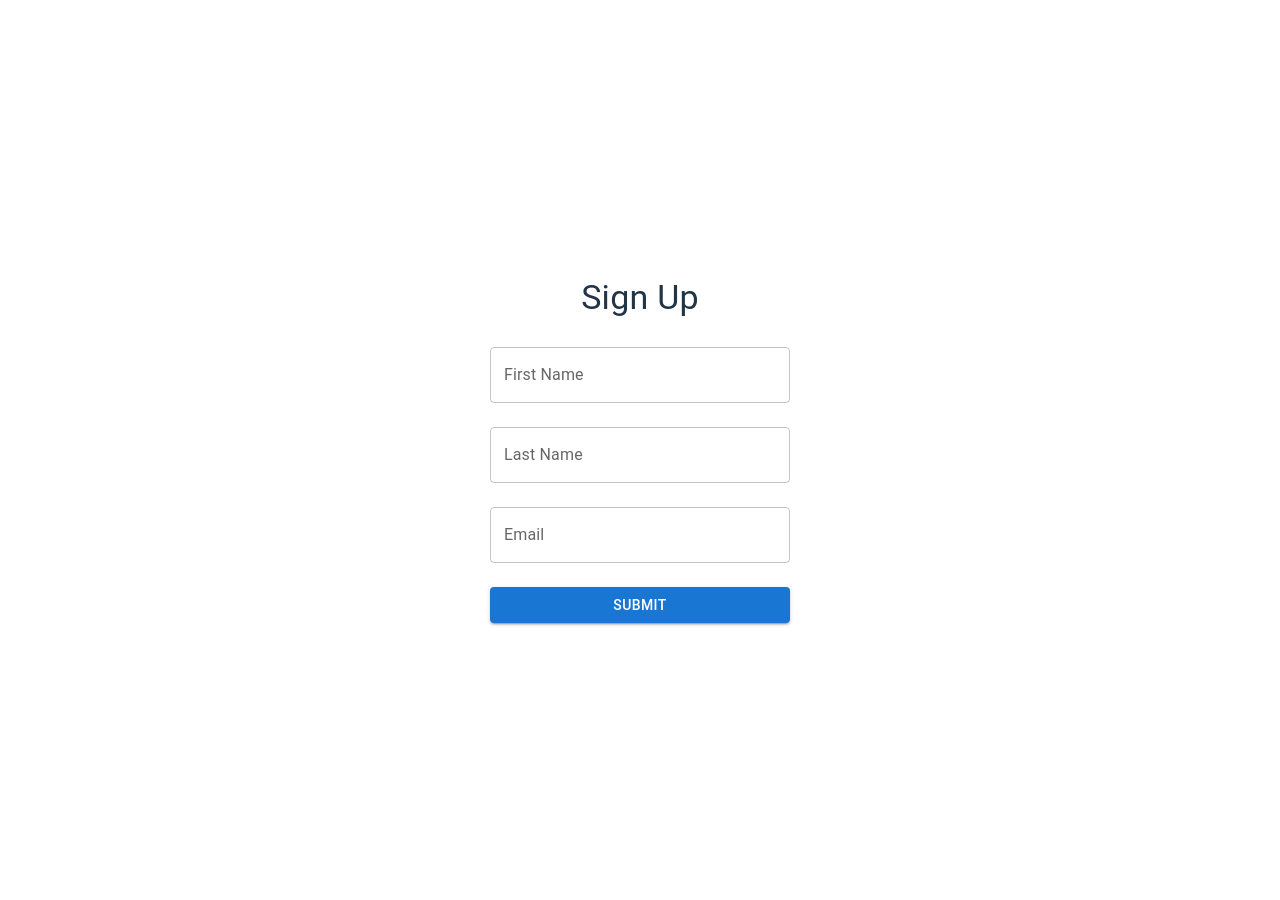
Test: FormConfirm Component Tests › displays the confirmation dialog when the submit button is clicked
The width and height of the screenshot is (1280, 900).
Click the button "Submit" at (640, 605), box [490,587,790,623]
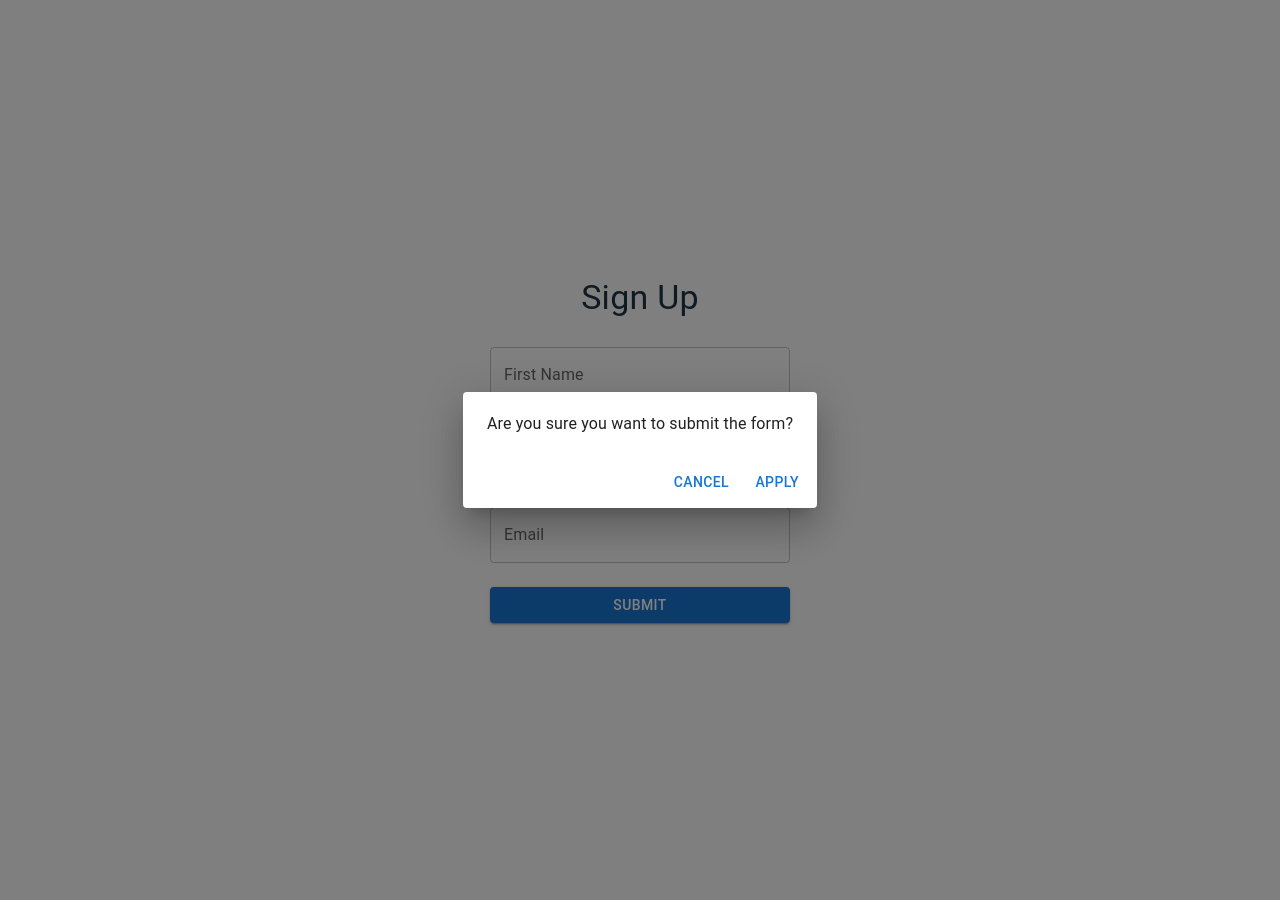
Check: the text "Are you sure you want to submit the form?" is shown, box [487,412,793,436]
